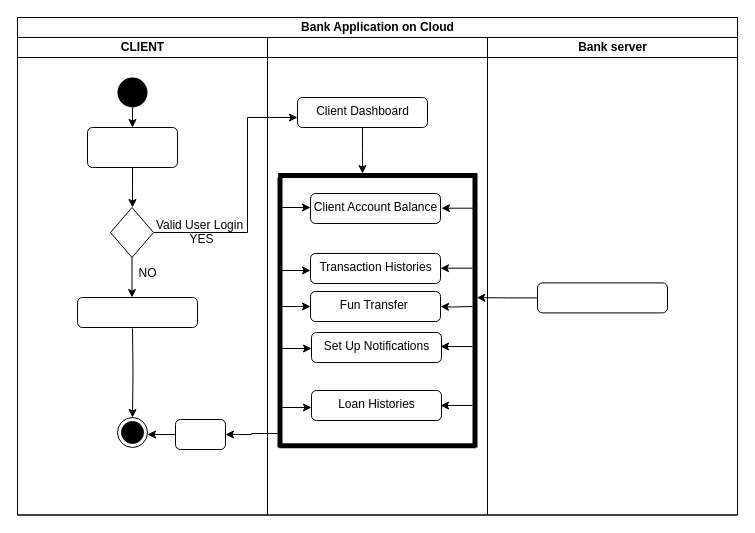
Image size: 755x533. Some labels were removed from this diagram. The box of each missing label's shape, as (x1, y1, x2, y2) in pixels:
Account Management: (536, 282, 668, 313)
Bank App: (266, 36, 488, 515)
Invalid Login Details: (76, 296, 198, 328)
Login: (86, 126, 178, 168)
Logout: (174, 418, 226, 450)
